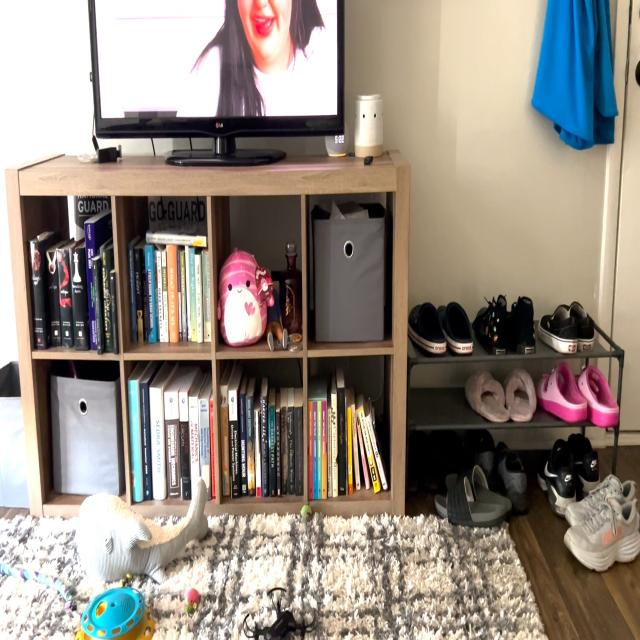drone: (232, 576, 325, 640)
